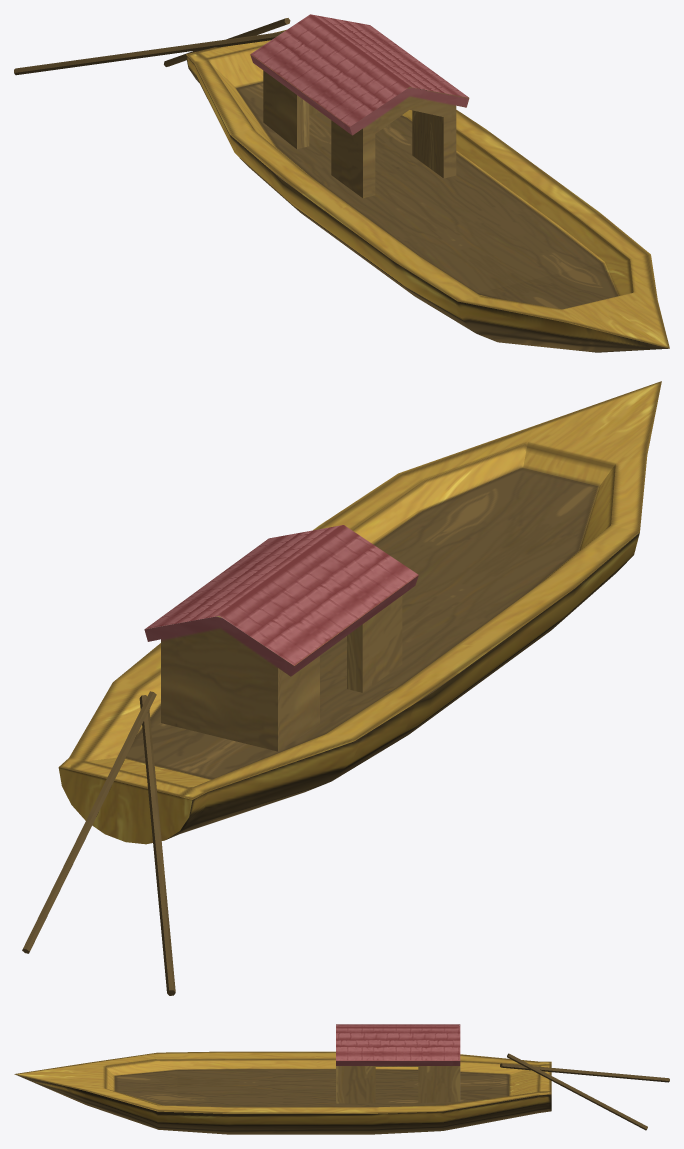
The model's file is Boat2.fbx.
The picture shows the model from 3 angles, top to bottom: view 1: azimuth 30°, elevation 25°; view 2: azimuth 150°, elevation 25°; view 3: azimuth 270°, elevation 25°; orthographic projection. The views are drawn at different scales.
Parts seen in each view (by area): view 1: polySurface6; view 2: polySurface6; view 3: polySurface6.
Boxes of the visible parts, x1,y1,x2,y2 form: polySurface6: [14, 14, 669, 352]; polySurface6: [22, 381, 661, 995]; polySurface6: [14, 1024, 669, 1134].
Size of the model in its own units: 4.38 by 2.89 by 16.89.
